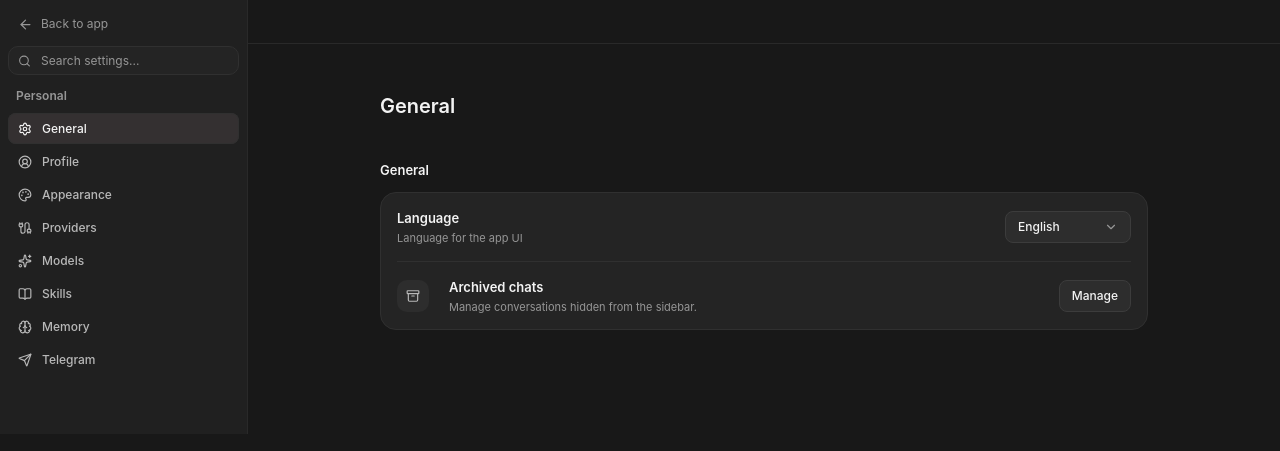
Test: SettingsPage › rolls back the UI language when persistence fails
The width and height of the screenshot is (1280, 451).
Press the mouse on the button with aria-label "Choose UI language" at (1068, 227), box left=1005, top=211, right=1131, bottom=243
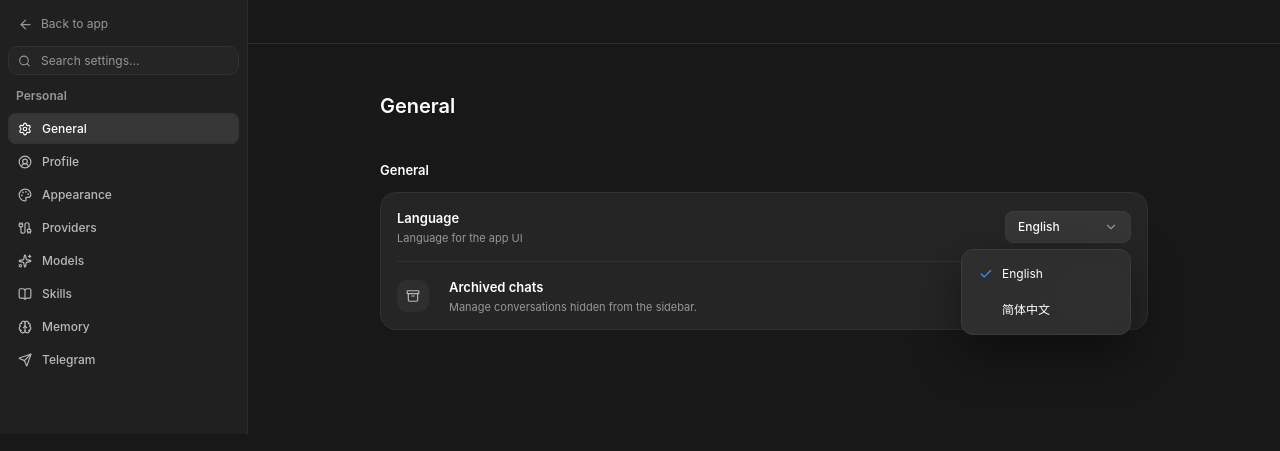
Click the menu item "简体中文" at (1026, 310), box left=1002, top=302, right=1050, bottom=317
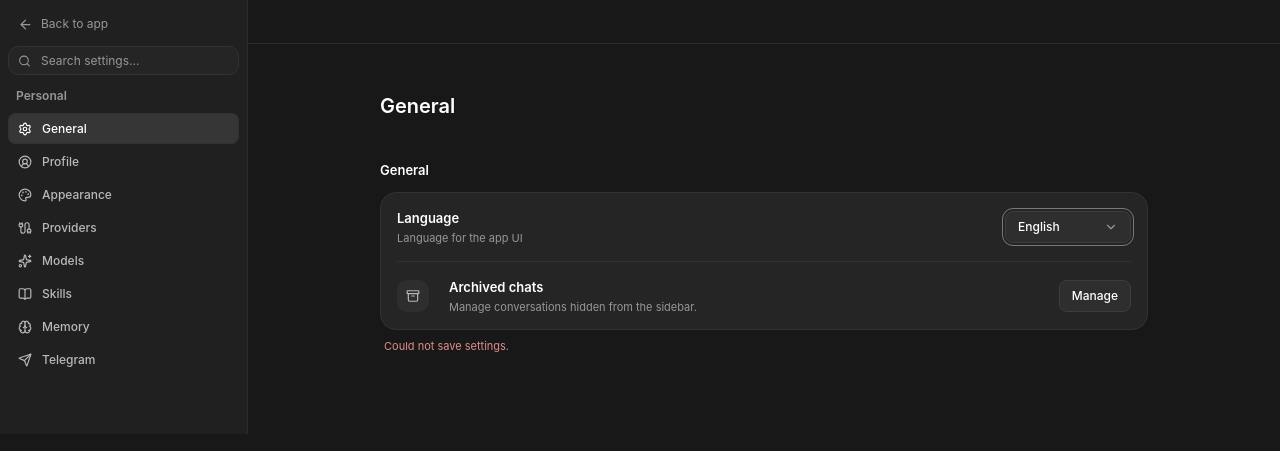
Expected: the 1st heading "General" is shown, left=380, top=94, right=455, bottom=118
Expected: the text "Could not save settings." is shown, left=384, top=339, right=509, bottom=353
